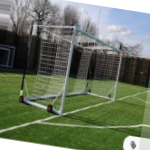goals: (23, 22, 124, 117)
